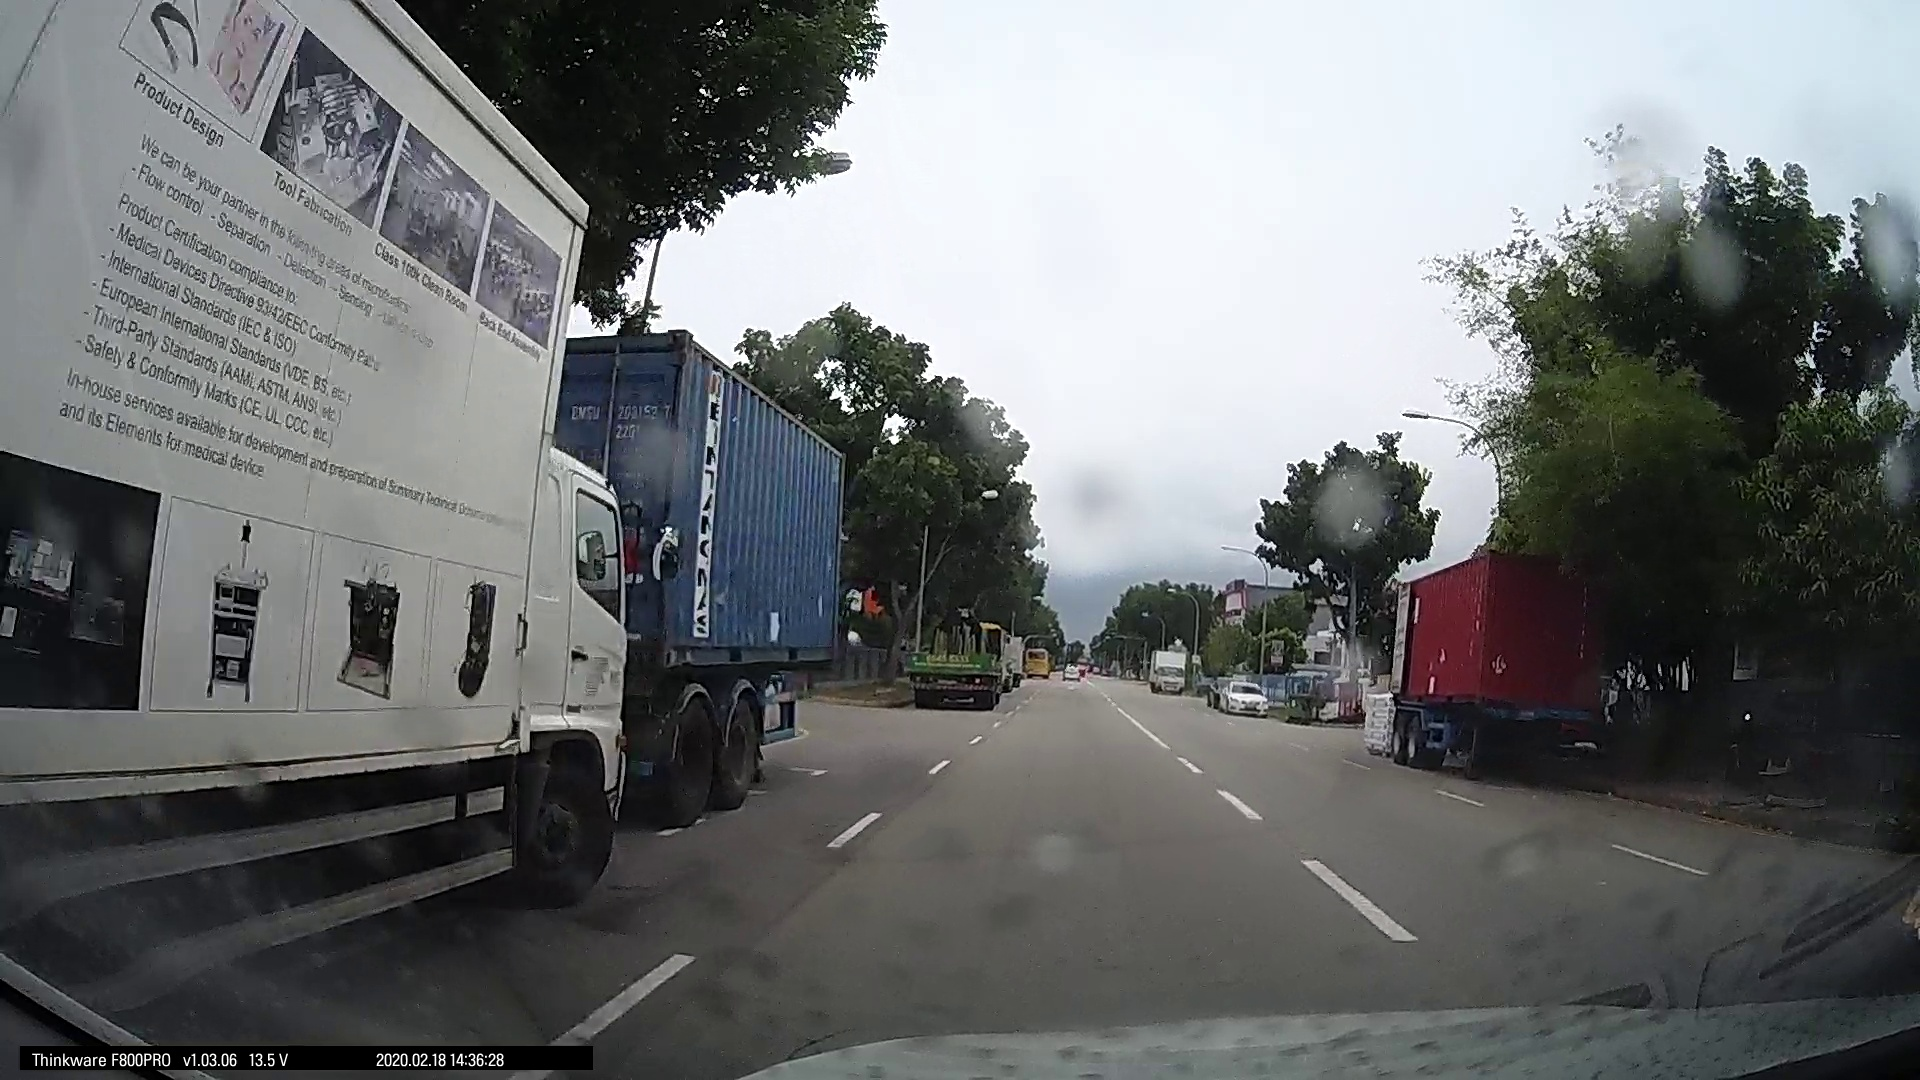Heavy Vehicle: (57, 1, 661, 1005), (549, 314, 847, 811), (1378, 541, 1615, 775)
Light Vehicle: (1207, 670, 1269, 716), (1145, 647, 1187, 694)
